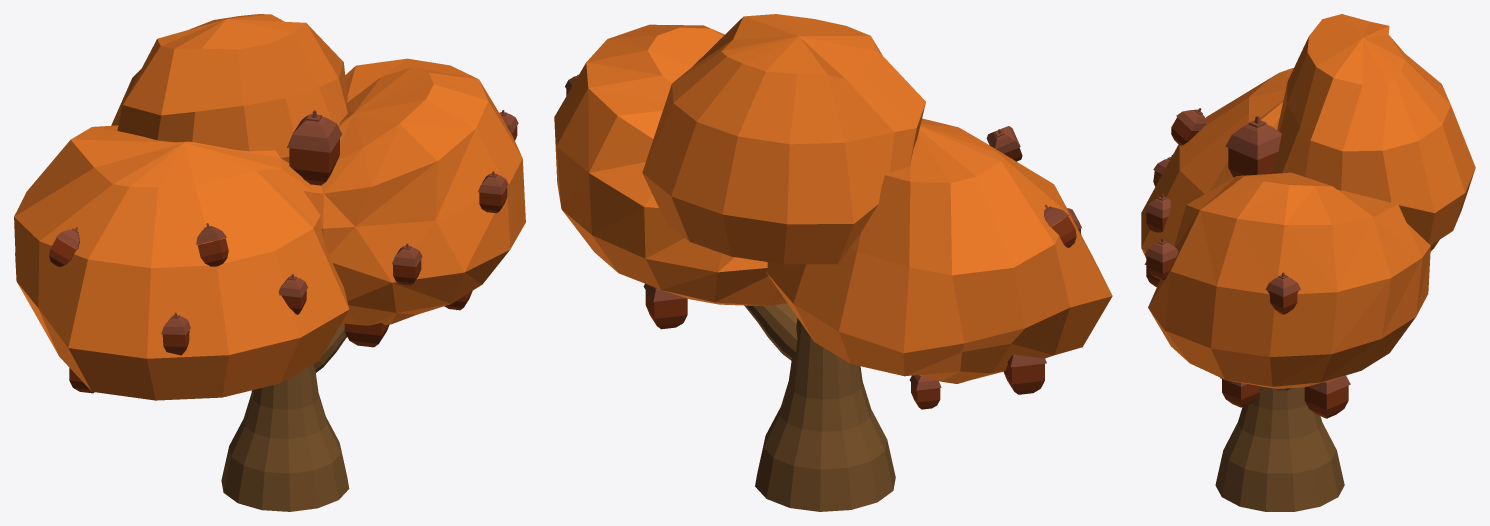
The model's file is dotoli_tree2.fbx.
3 renders of one model, left to right at view 1: azimuth 30°, elevation 25°; view 2: azimuth 150°, elevation 25°; view 3: azimuth 270°, elevation 25°, orthographic. The views are drawn at different scales.
Parts seen in each view (by area): view 1: Sphere.021, Sphere.022, Sphere.020, Cylinder.001, 도토리몸통.002, 도토리몸통.005, 도토리몸통.003; view 2: Sphere.021, Sphere.020, Sphere.022, Cylinder.001, 도토리몸통.002; view 3: Sphere.022, Sphere.020, Cylinder.001, Sphere.021, 도토리몸통.002, 도토리몸통.005, 도토리몸통.003.
Part boxes in pixels (x1,y1,x2,y2): Sphere.021: (14, 125, 349, 400); Sphere.022: (304, 58, 525, 326); Sphere.020: (111, 14, 347, 162); Cylinder.001: (221, 326, 349, 511); 도토리몸통.002: (49, 110, 518, 393); 도토리몸통.005: (287, 110, 342, 185); 도토리몸통.003: (478, 171, 508, 213); Sphere.021: (766, 118, 1112, 383); Sphere.020: (642, 14, 925, 264); Sphere.022: (554, 24, 786, 305); Cylinder.001: (744, 303, 895, 511); 도토리몸통.002: (565, 74, 1081, 409); Sphere.022: (1148, 172, 1430, 388); Sphere.020: (1272, 14, 1475, 245); Cylinder.001: (1215, 386, 1344, 511); Sphere.021: (1141, 68, 1439, 258); 도토리몸통.002: (1144, 108, 1350, 418); 도토리몸통.005: (1225, 116, 1281, 177); 도토리몸통.003: (1145, 238, 1178, 280).
Size of the model in its own units: 2486 by 2203 by 1521.
